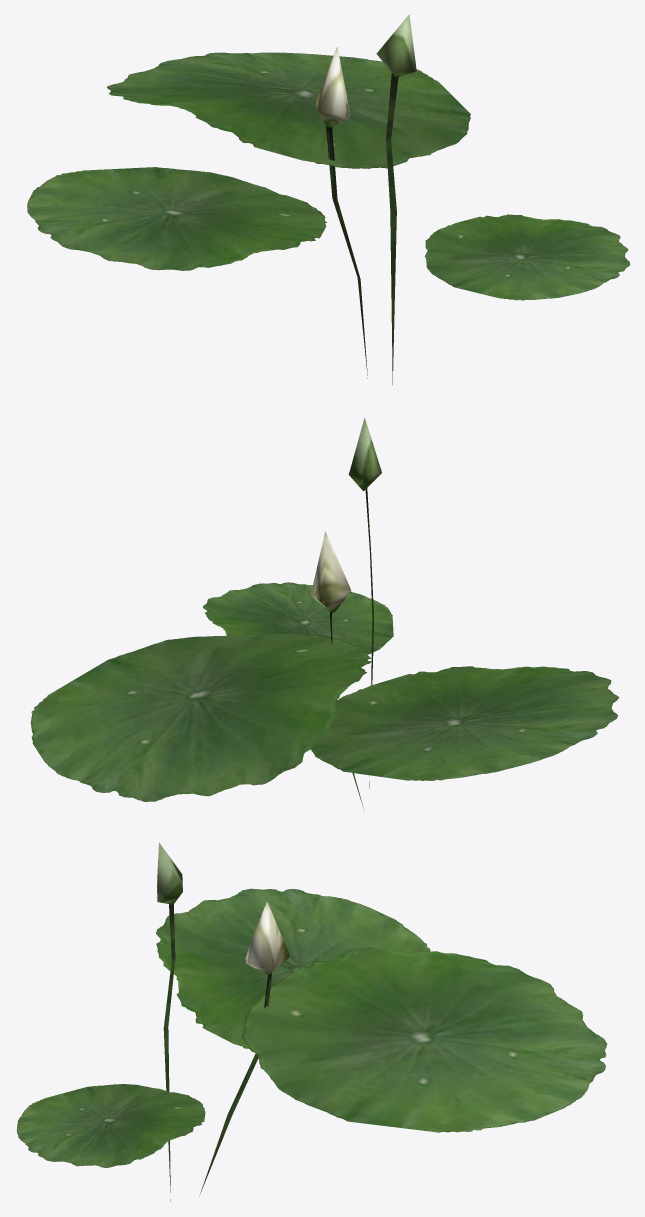
Rendered from yw_yanziwu_hehua01.FBX.
3 views of the same model, one above another, from view 1: azimuth 30°, elevation 25°; view 2: azimuth 150°, elevation 25°; view 3: azimuth 270°, elevation 25° (orthographic). The views are drawn at different scales.
Parts seen in each view (by area): view 1: yw_yanziwu_hehua01; view 2: yw_yanziwu_hehua01; view 3: yw_yanziwu_hehua01.
Boxes of the visible parts, x1,y1,x2,y2 form: yw_yanziwu_hehua01: [27, 14, 629, 384]; yw_yanziwu_hehua01: [30, 417, 619, 810]; yw_yanziwu_hehua01: [16, 842, 607, 1201].
Size of the model in its own units: 217 by 152 by 232.
